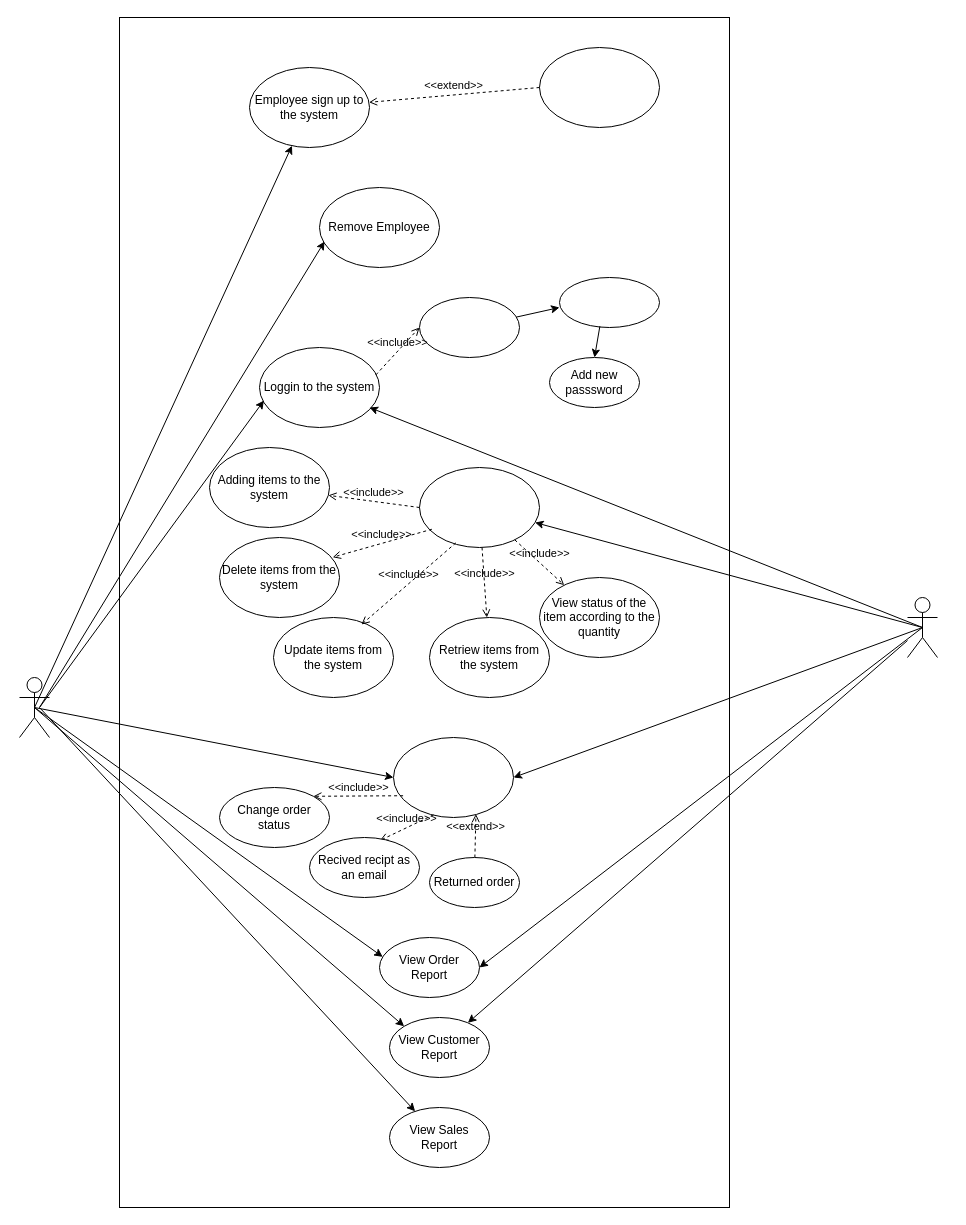
The diagram is 966 pixels wide and 1225 high, and some of its shapes have lost their labels. The shapes that lost their labels are listed below. From the top down, each one's centre as x and y in pixels, then its label:
At (599,87): "User signed up if credential correct".
At (609,302): "Request an OTP".
At (469,327): "Forget passsword".
At (479,507): "User should select the categories".
At (922,627): "Employee".
At (34,707): "Admin".
At (453,777): "User place order".
